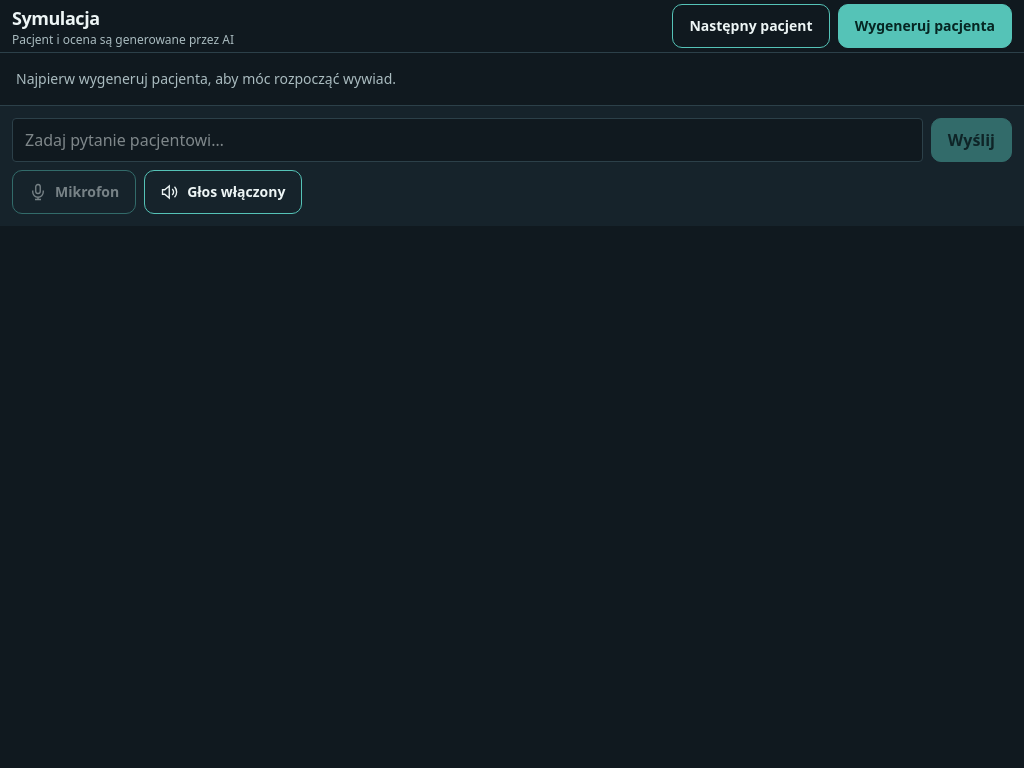
Test case: SimulationClient — Wygeneruj pacjenta › opens a dialog when Wygeneruj pacjenta is clicked and the input is not in the header
Click the button "Wygeneruj pacjenta": (925, 26) x1=838 y1=4 x2=1012 y2=48
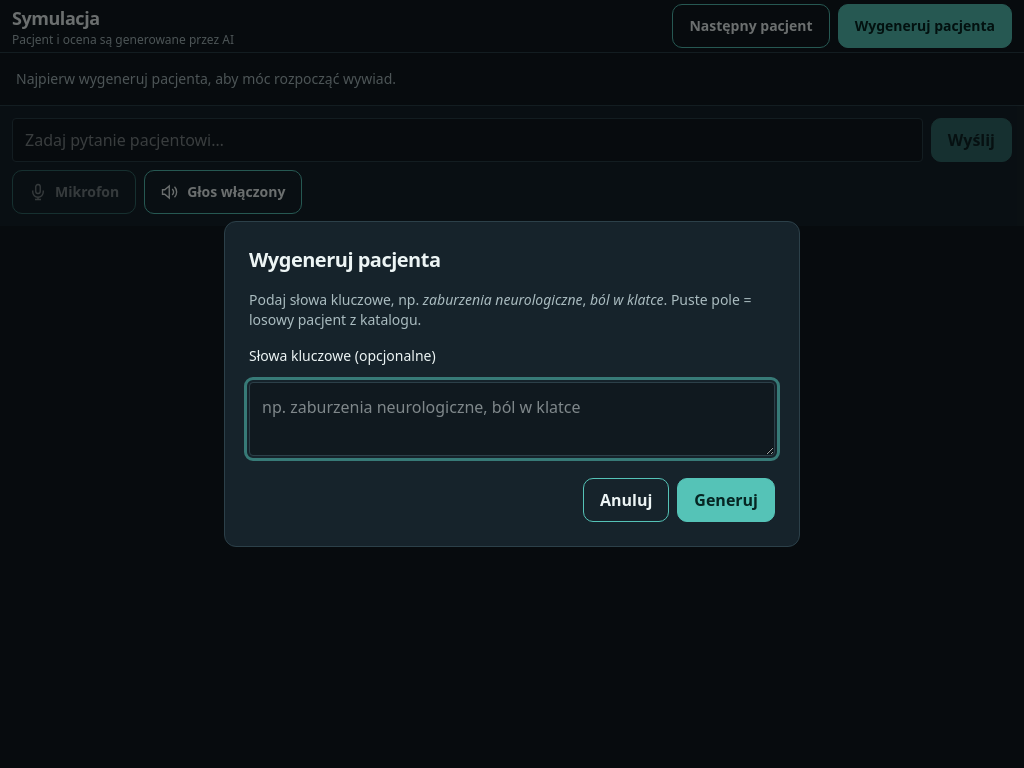
Check: the text box named "Słowa kluczowe pacjenta" is shown, box x1=249 y1=382 x2=775 y2=456
Check: the button "Generuj" is shown, box x1=677 y1=478 x2=775 y2=522
Check: the button "Anuluj" is shown, box x1=583 y1=478 x2=669 y2=522
